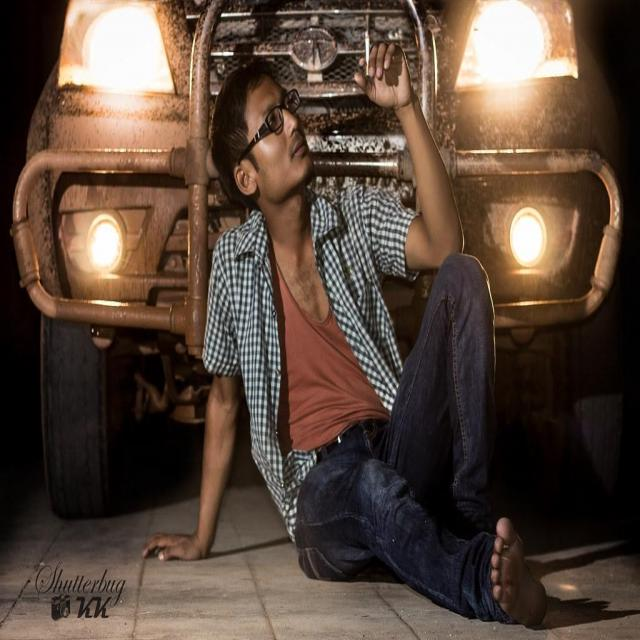Сигарета: (364, 28, 372, 77)
Тело: (144, 46, 518, 613)
